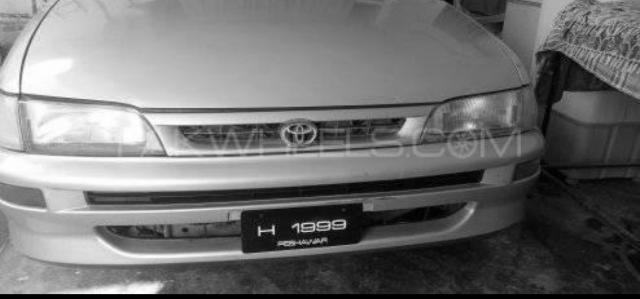Number: (249, 218, 351, 240)
